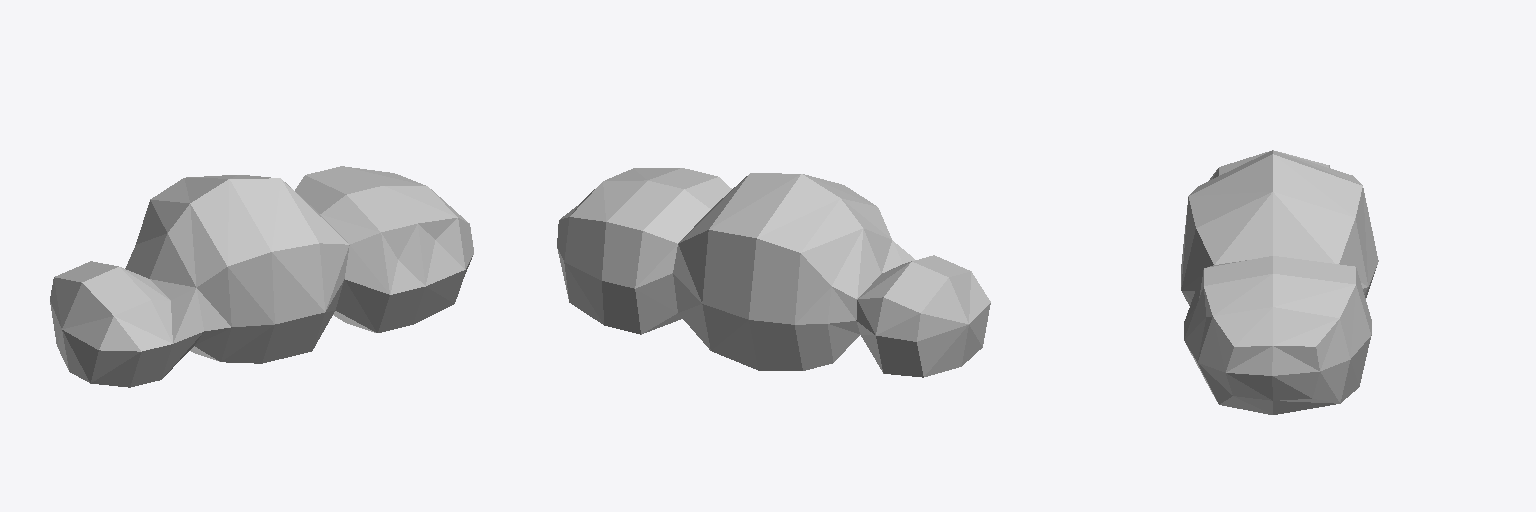
Rendered from clouds4.obj.
3 renders of one model, left to right at view 1: azimuth 30°, elevation 25°; view 2: azimuth 150°, elevation 25°; view 3: azimuth 270°, elevation 25°, orthographic.
Parts seen in each view (by area): view 1: Plane; view 2: Plane; view 3: Plane.
Boxes of the visible parts, <box> form: Plane: <box>50,166,473,387</box>; Plane: <box>557,168,990,377</box>; Plane: <box>1181,150,1378,414</box>.
Size of the model in its own units: 3.29 by 1.39 by 1.43.